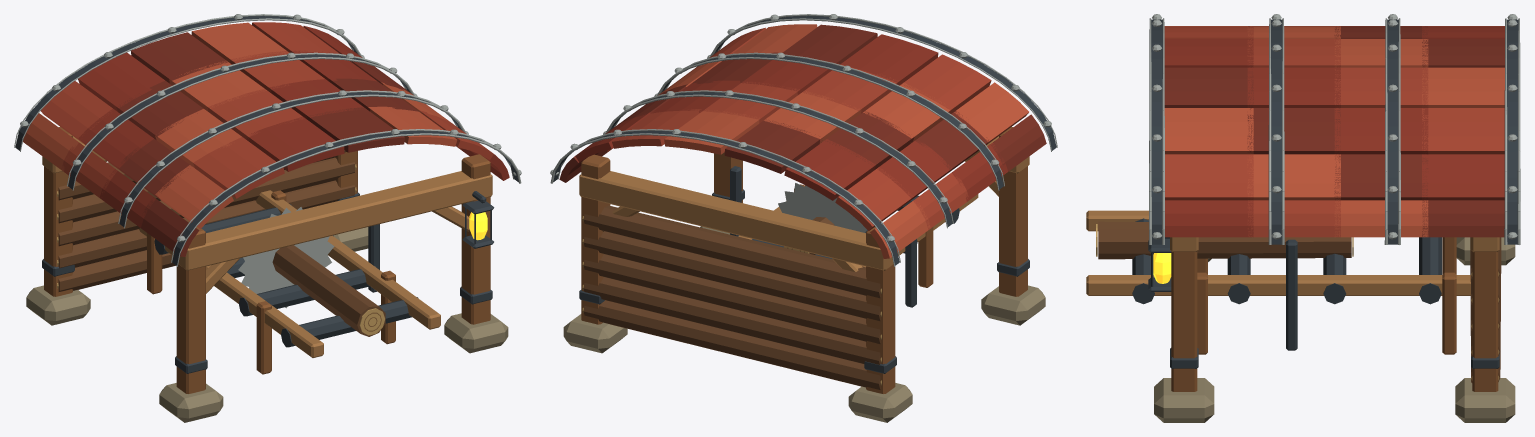
The model's file is sawmill.glb.
3 renders of one model, left to right at view 1: azimuth 30°, elevation 25°; view 2: azimuth 150°, elevation 25°; view 3: azimuth 270°, elevation 25°, orthographic. The views are drawn at different scales.
Parts seen in each view (by area): view 1: sawmill.001; view 2: sawmill.001; view 3: sawmill.001.
Part boxes in pixels (box(x1,y1,x2,y2)): sawmill.001: box(14, 14, 521, 422); sawmill.001: box(550, 14, 1057, 422); sawmill.001: box(1086, 14, 1520, 422).
Size of the model in its own units: 4.76 by 3.25 by 4.55.
